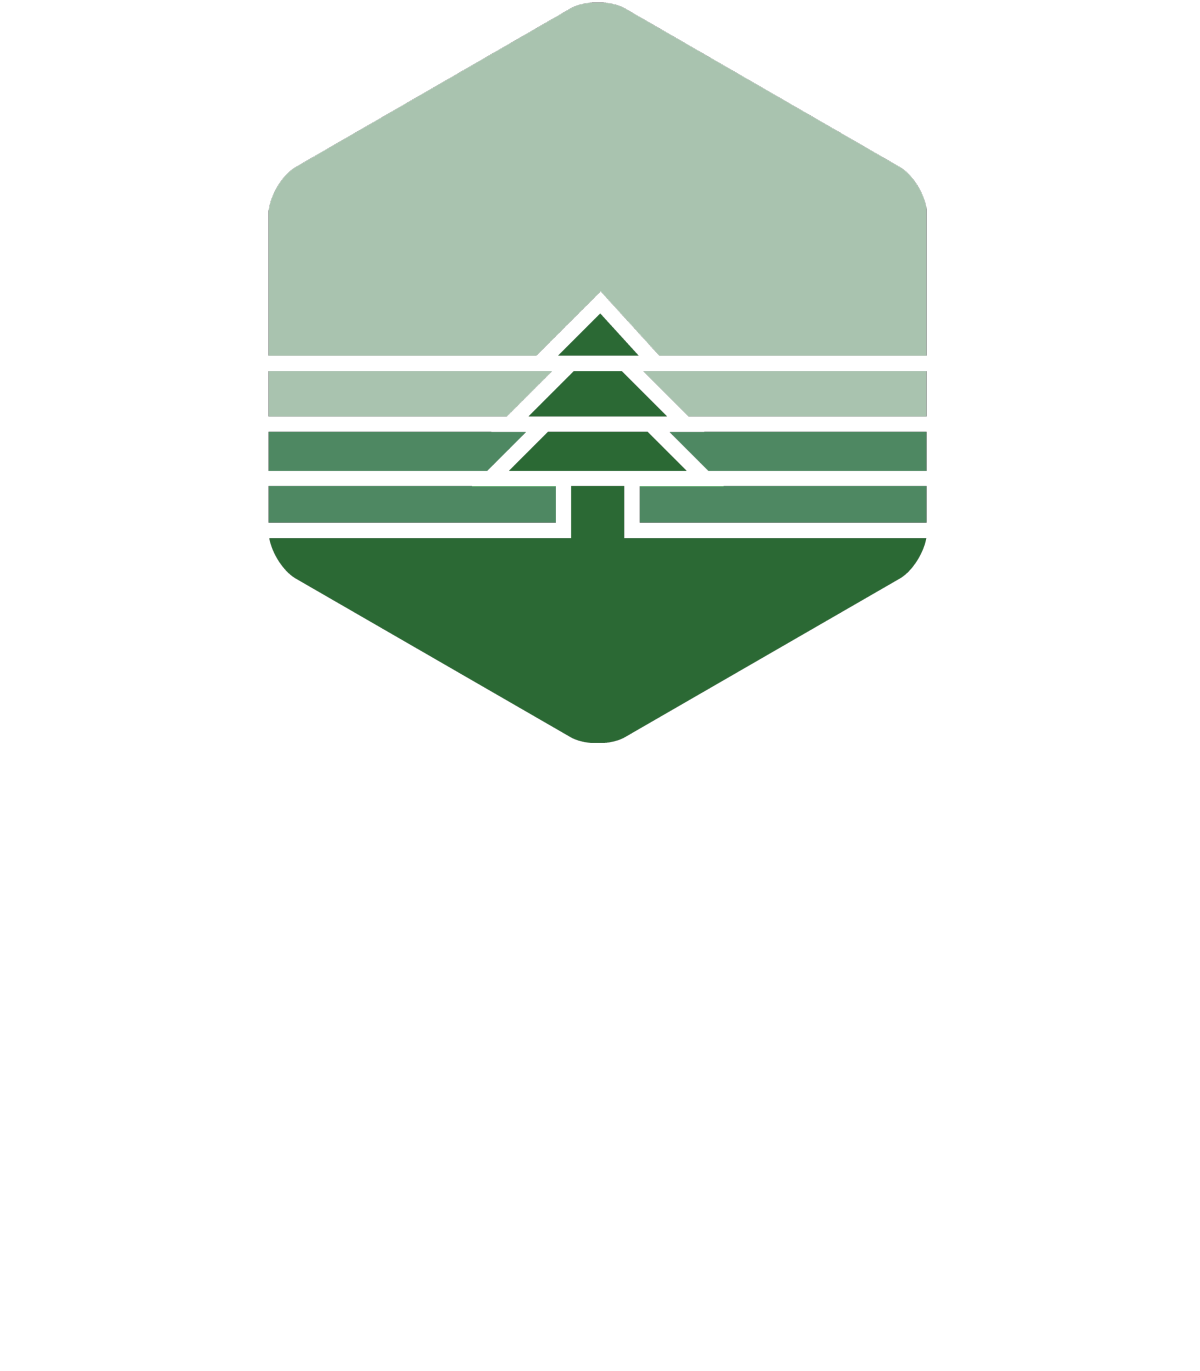design: (226, 1, 959, 771)
